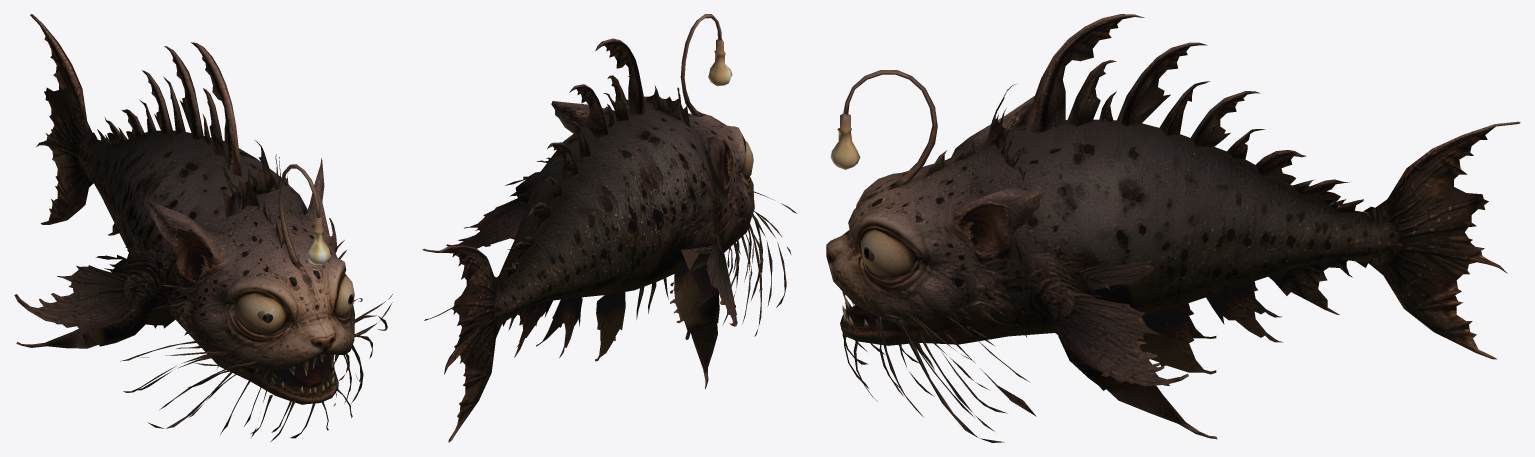
The model's file is catfish_with_skeletton.glb.
The picture shows the model from 3 angles, left to right: view 1: azimuth 30°, elevation 25°; view 2: azimuth 150°, elevation 25°; view 3: azimuth 270°, elevation 25°; orthographic projection. The views are drawn at different scales.
Visible parts, largest first — view 1: tripo_node_85a1a9cf-3cfd-483c-a12c-d40a9ae1798a; view 2: tripo_node_85a1a9cf-3cfd-483c-a12c-d40a9ae1798a; view 3: tripo_node_85a1a9cf-3cfd-483c-a12c-d40a9ae1798a.
Boxes of the visible parts, left/top/right/bottom form: tripo_node_85a1a9cf-3cfd-483c-a12c-d40a9ae1798a: left=14, top=14, right=392, bottom=441; tripo_node_85a1a9cf-3cfd-483c-a12c-d40a9ae1798a: left=422, top=14, right=797, bottom=442; tripo_node_85a1a9cf-3cfd-483c-a12c-d40a9ae1798a: left=826, top=14, right=1520, bottom=442.
Size of the model in its own units: 0.6152 by 0.5879 by 0.998.
1 material, 1 textured.
